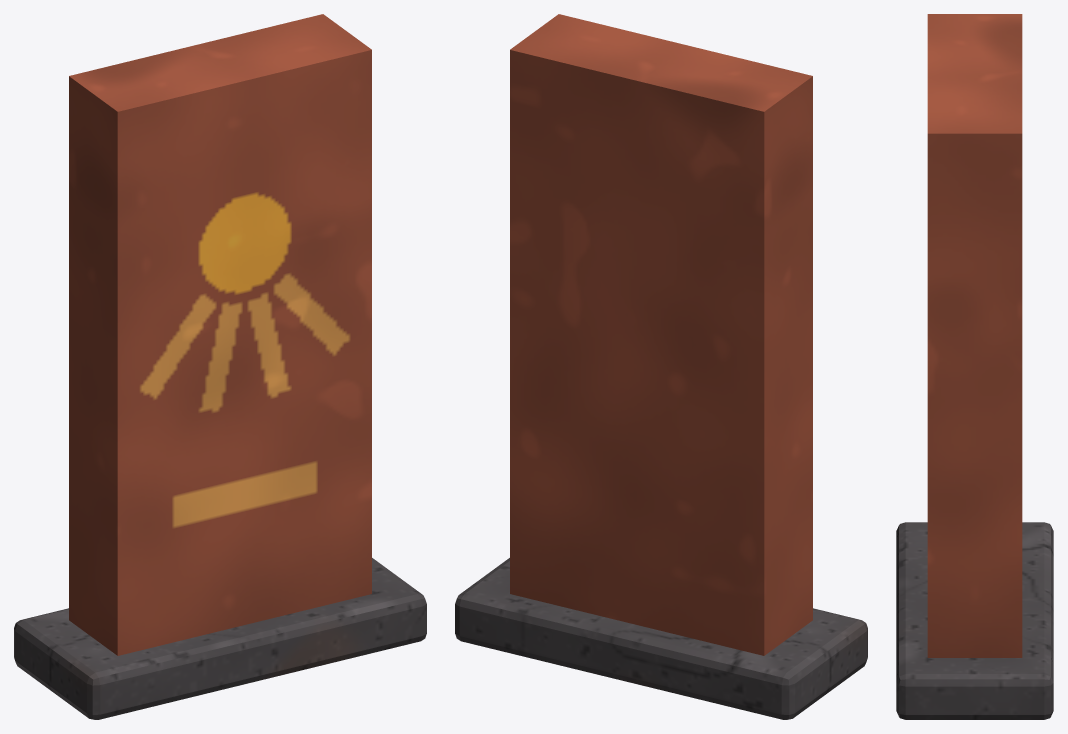
The model's file is monolith.glb.
3 views of the same model, side by side, from view 1: azimuth 30°, elevation 25°; view 2: azimuth 150°, elevation 25°; view 3: azimuth 270°, elevation 25° (orthographic). The views are drawn at different scales.
Parts seen in each view (by area): view 1: Monolith; view 2: Monolith; view 3: Monolith.
Boxes of the visible parts, box(x1,y1,x2,y2) form: Monolith: box(14, 14, 426, 719); Monolith: box(455, 14, 867, 719); Monolith: box(896, 14, 1053, 719).
Size of the model in its own units: 1.2 by 2 by 0.5.
Materials: 1 (1 with a texture image).
